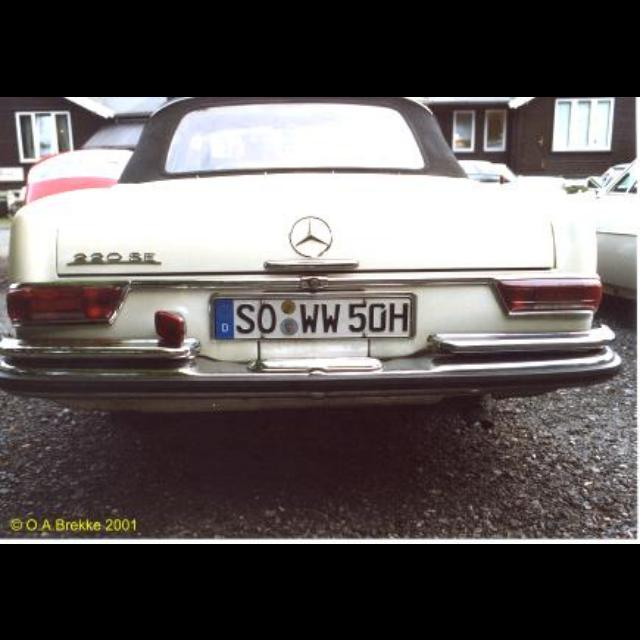d_license_plate: (214, 296, 408, 336)
